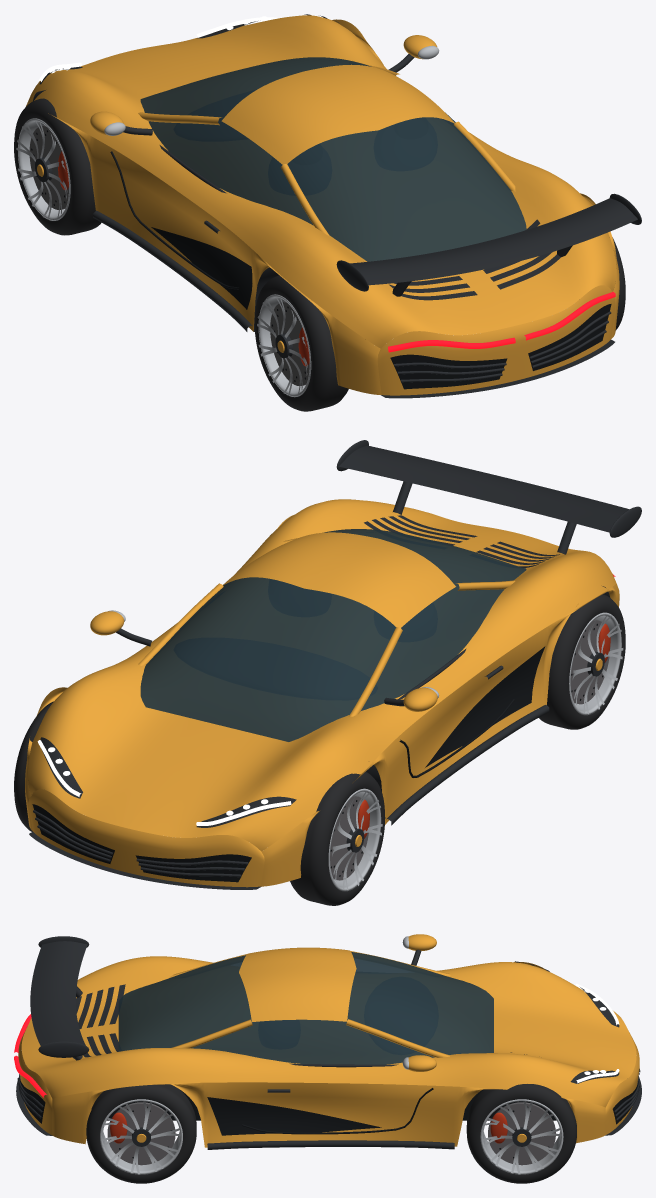
File: 05_rare_golden_bonus_hypercar.glb
3 renders of one model, top to bottom at view 1: azimuth 30°, elevation 25°; view 2: azimuth 150°, elevation 25°; view 3: azimuth 270°, elevation 25°, orthographic. The views are drawn at different scales.
Parts seen in each view (by area): view 1: Metallic body – honey gold, Windshield smoked glass, Graphite aero composite, Performance tire rubber, Intake shadow and seals, Diamond-cut forged alloy, Carbon ceramic rotor, Ruby rear light guide, Daylight LED guide, Vermilion brake enamel; view 2: Metallic body – honey gold, Windshield smoked glass, Graphite aero composite, Performance tire rubber, Intake shadow and seals, Diamond-cut forged alloy, Carbon ceramic rotor, Daylight LED guide; view 3: Metallic body – honey gold, Windshield smoked glass, Graphite aero composite, Performance tire rubber, Intake shadow and seals, Diamond-cut forged alloy, Carbon ceramic rotor, Vermilion brake enamel, Daylight LED guide, Ruby rear light guide.
Boxes of the visible parts, <box> form: Metallic body – honey gold: <box>26,15,619,395</box>; Windshield smoked glass: <box>140,57,526,261</box>; Graphite aero composite: <box>33,14,641,398</box>; Performance tire rubber: <box>14,98,625,411</box>; Intake shadow and seals: <box>31,130,611,389</box>; Diamond-cut forged alloy: <box>16,45,439,397</box>; Carbon ceramic rotor: <box>29,125,309,385</box>; Ruby rear light guide: <box>388,291,615,352</box>; Daylight LED guide: <box>38,16,279,81</box>; Vermilion brake enamel: <box>58,151,309,366</box>; Metallic body – honey gold: <box>25,499,619,887</box>; Windshield smoked glass: <box>140,529,526,741</box>; Graphite aero composite: <box>29,440,641,889</box>; Performance tire rubber: <box>14,594,625,905</box>; Intake shadow and seals: <box>32,623,603,882</box>; Diamond-cut forged alloy: <box>108,610,623,891</box>; Carbon ceramic rotor: <box>330,619,610,880</box>; Daylight LED guide: <box>37,740,291,825</box>; Metallic body – honey gold: <box>18,934,639,1147</box>; Windshield smoked glass: <box>118,952,493,1064</box>; Graphite aero composite: <box>16,936,641,1149</box>; Performance tire rubber: <box>86,1084,576,1183</box>; Intake shadow and seals: <box>19,1076,638,1158</box>; Diamond-cut forged alloy: <box>100,936,563,1174</box>; Carbon ceramic rotor: <box>107,1102,555,1165</box>; Vermilion brake enamel: <box>110,1112,507,1143</box>; Daylight LED guide: <box>575,983,619,1083</box>; Ruby rear light guide: <box>14,1014,46,1097</box>.
Bounding box in the file's own units: 2.32 × 1.34 × 4.69.
